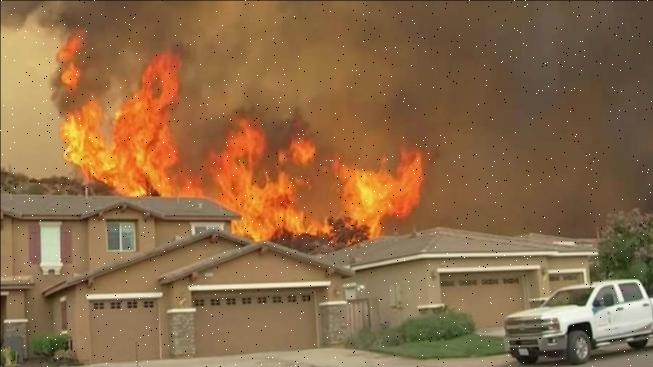fire: (44, 37, 432, 246)
